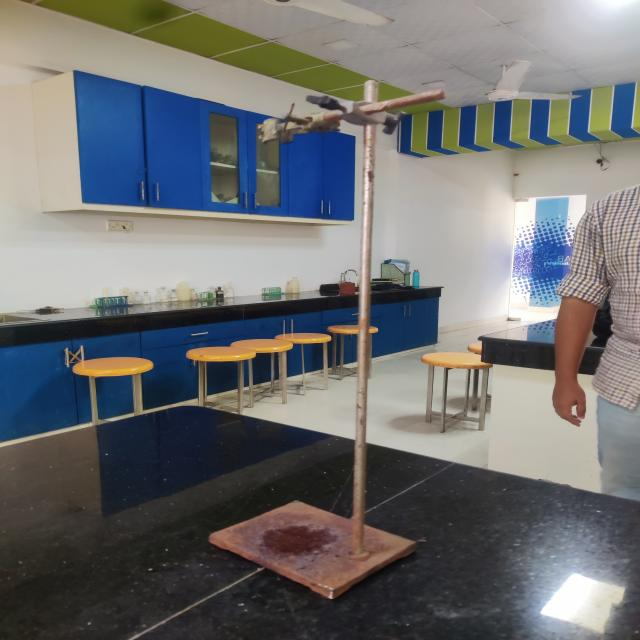Burette_Stands: (186, 76, 444, 600)
